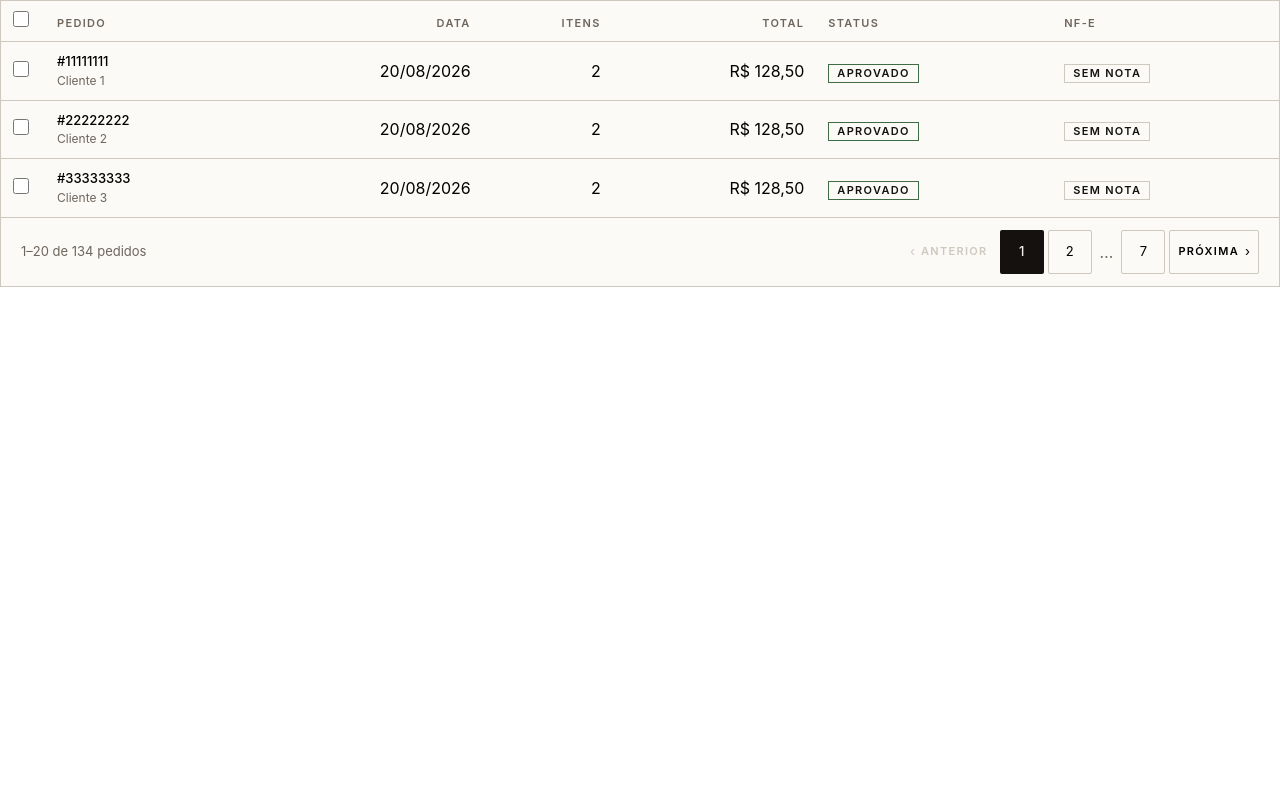
Test: a seleção em massa — R25 › a confirmação nomeia o objeto e as consequências — R12
Click the checkbox named "Marcar os 3 pedidos desta página" at (21, 19), box x1=13 y1=11 x2=29 y2=27
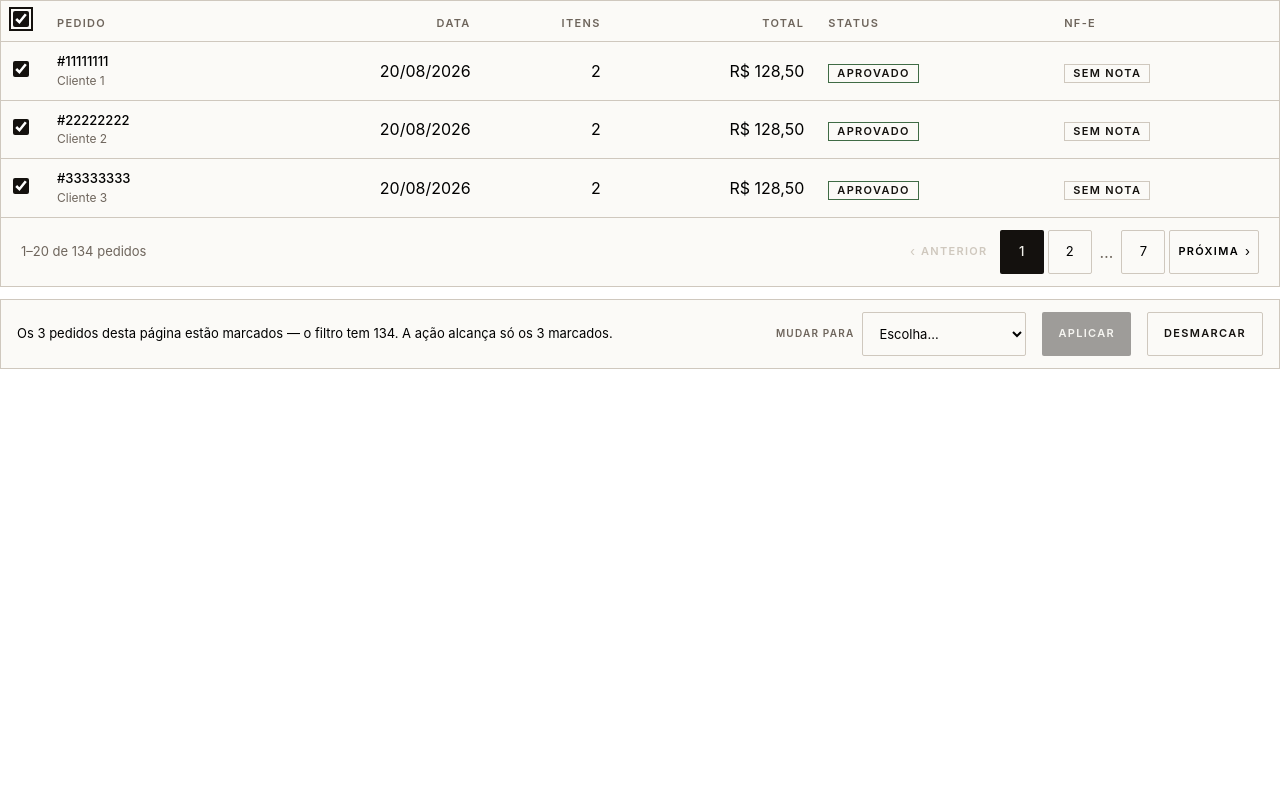
Select "Entregue" in the dropdown labelled "Mudar para" at (944, 334), box x1=862 y1=312 x2=1026 y2=356
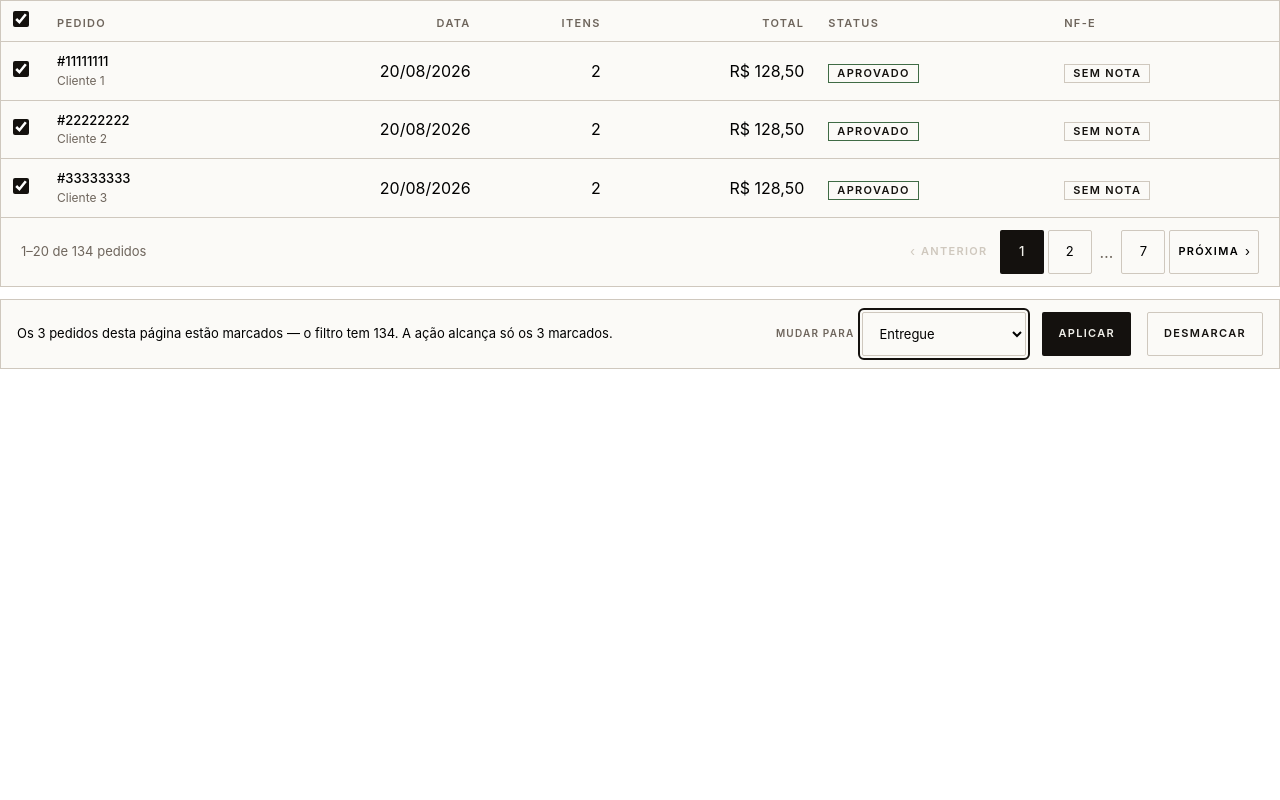
Click the button "Aplicar" at (1087, 334), box x1=1042 y1=312 x2=1131 y2=356
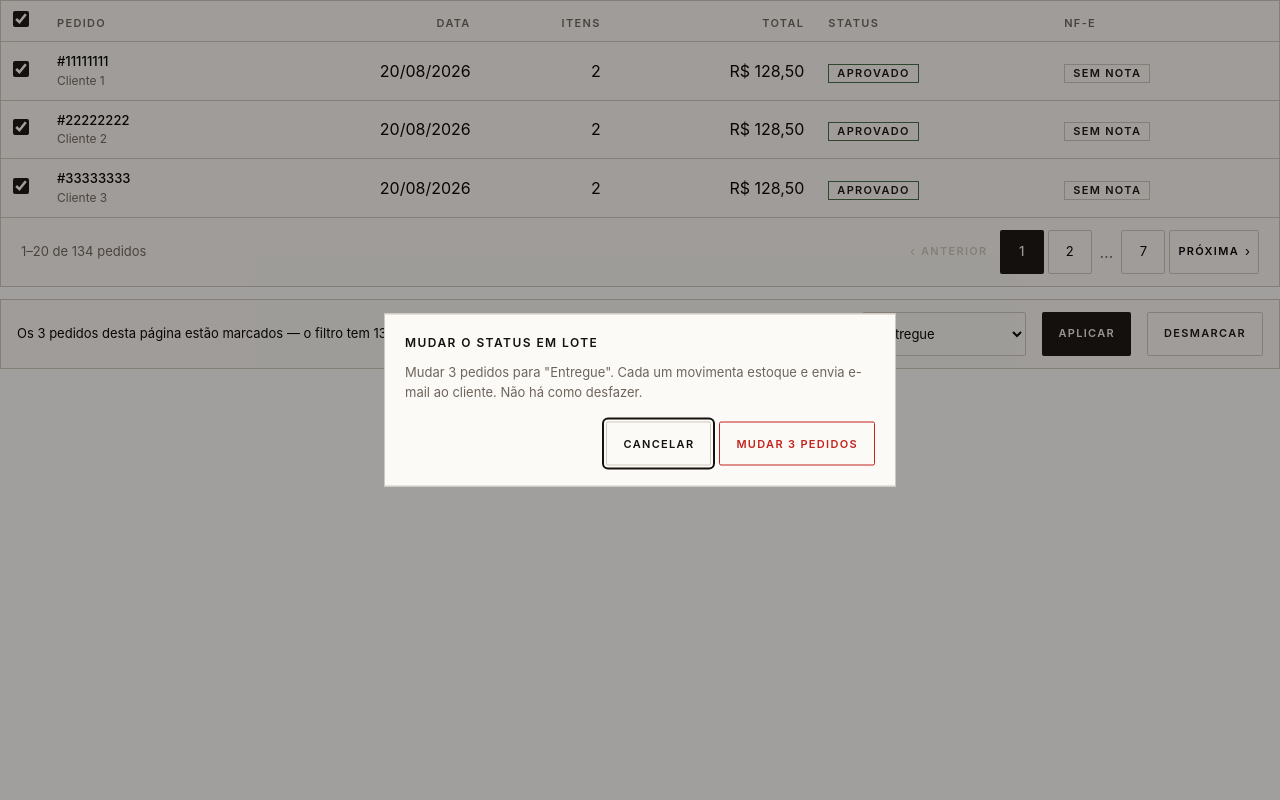
Expected: the dialog shows "3 pedidos", x1=405 y1=364 x2=862 y2=399
Expected: the dialog shows "Entregue", x1=405 y1=364 x2=862 y2=399
Expected: the dialog shows "estoque", x1=405 y1=364 x2=862 y2=399
